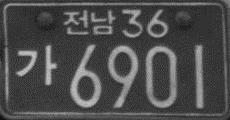0: (145, 45, 177, 110)
1: (191, 42, 206, 109)
3: (120, 8, 143, 38)
6: (68, 43, 102, 108), (147, 8, 169, 39)
9: (105, 43, 139, 109)
가: (15, 44, 59, 87)
전남_O: (63, 8, 116, 36)
